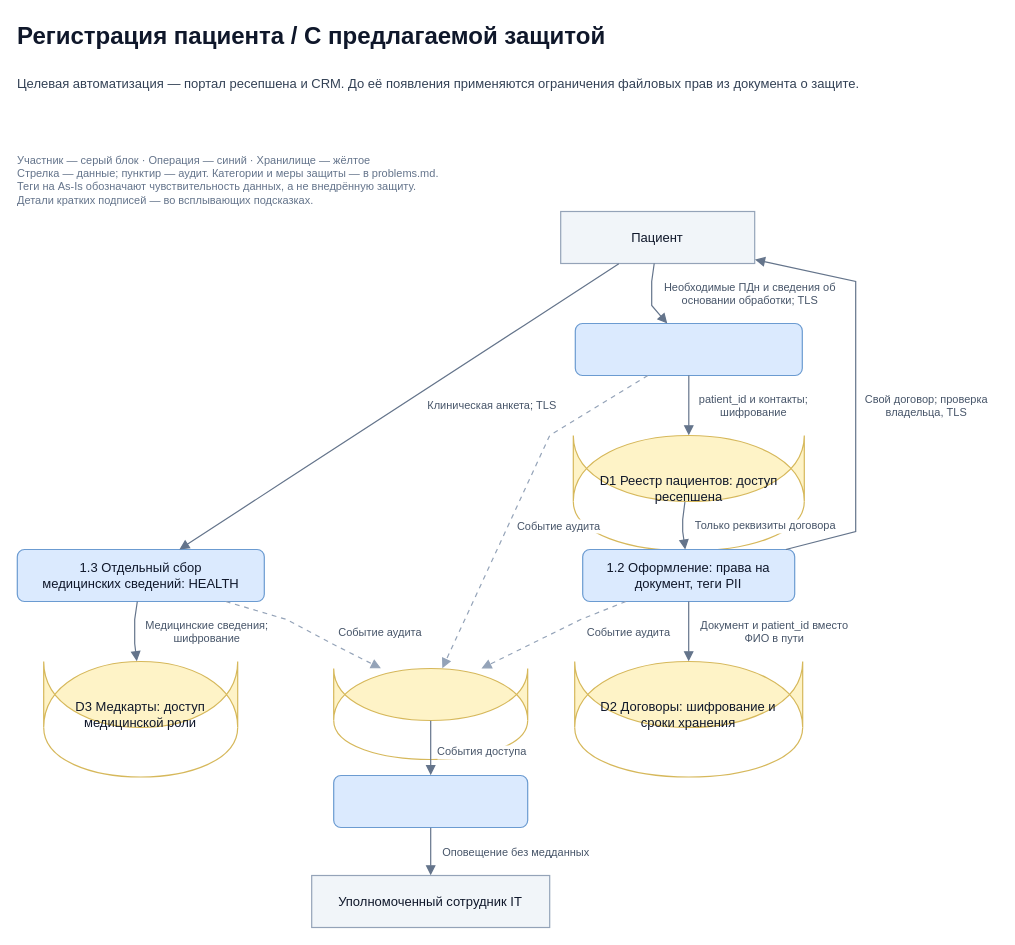
The diagram is 1015 pixels wide and 945 high, and some of its shapes have lost their labels. Here are the shapes that lost their labels. From the top down, the box of each, then its label:
(574, 322, 802, 376): 1.1 Регистрация: валидация, минимизация, теги PII
(333, 667, 528, 721): Журнал аудита
(333, 774, 528, 828): Анализ событий
